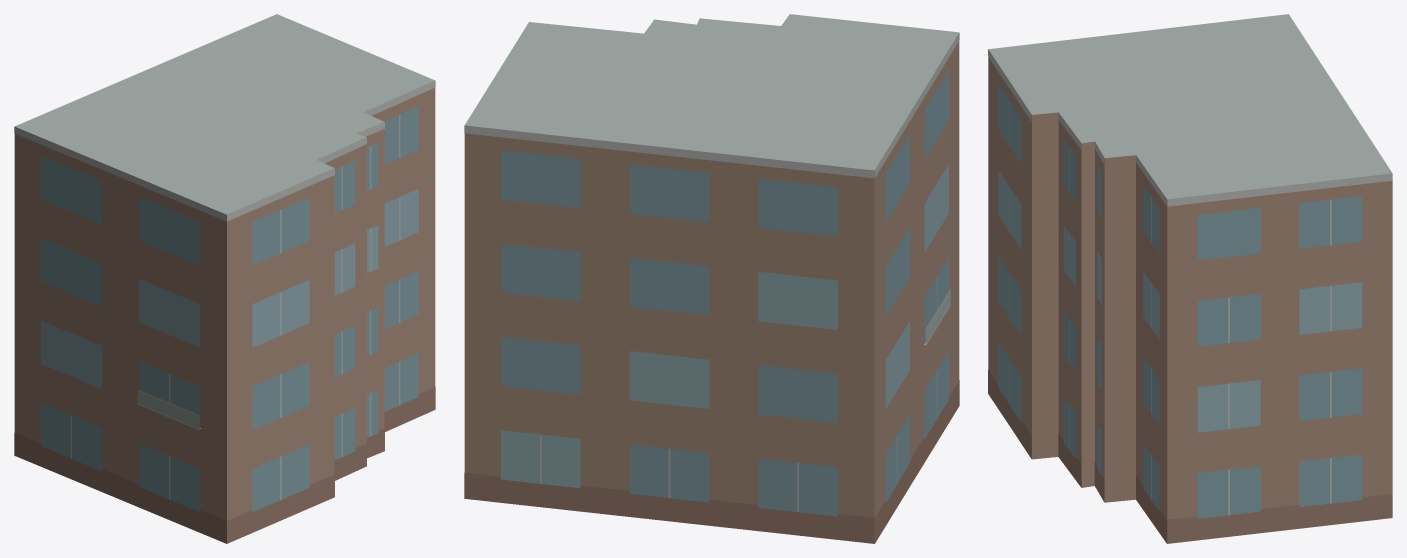
Rendered from survey-upis-32719719.glb.
The picture shows the model from 3 angles, left to right: view 1: azimuth 30°, elevation 25°; view 2: azimuth 150°, elevation 25°; view 3: azimuth 270°, elevation 25°; orthographic projection. The views are drawn at different scales.
Visible parts, largest first — view 1: survey-upis-32719719.tmp; view 2: survey-upis-32719719.tmp; view 3: survey-upis-32719719.tmp.
Boxes of the visible parts, <box> form: survey-upis-32719719.tmp: <box>14,14,435,543</box>; survey-upis-32719719.tmp: <box>464,14,959,543</box>; survey-upis-32719719.tmp: <box>988,14,1392,543</box>.
Bounding box in the file's own units: 13.34 × 11.55 × 12.3.
